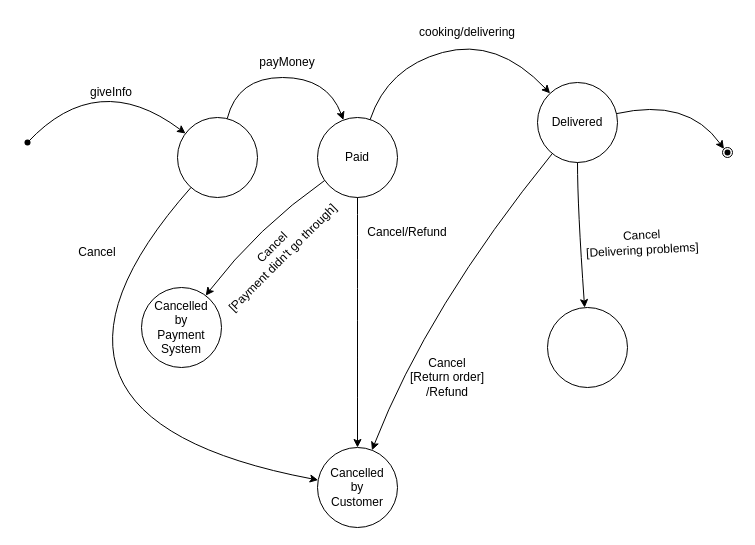
This 755x545 diagram has some shape labels left out. The centre of each missing label's shape, as x and y in pixels:
"Made" belongs at [217,157].
"Not Delivered" belongs at [587,347].
